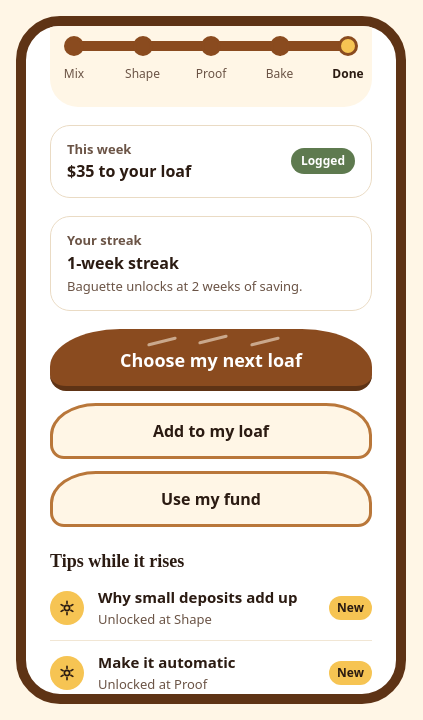
Test case: Home: the shelf link and the next loaf › offers "Choose my next loaf" once the loaf is baked, as the one loaf button
(page scrolled)
What coordinates should you click on to do the following:
click the button "Choose my next loaf"
I would click on:
 (211, 360)
Its box is [50,329,372,391].
(page scrolled)
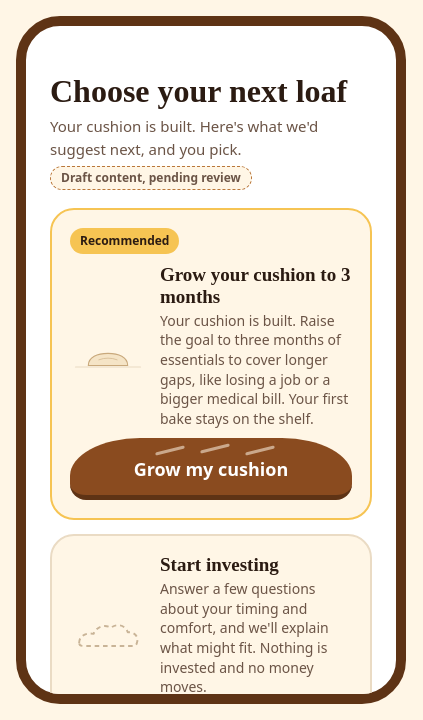
Now the heading "Choose your next loaf" is shown, box [50,74,347,109]
